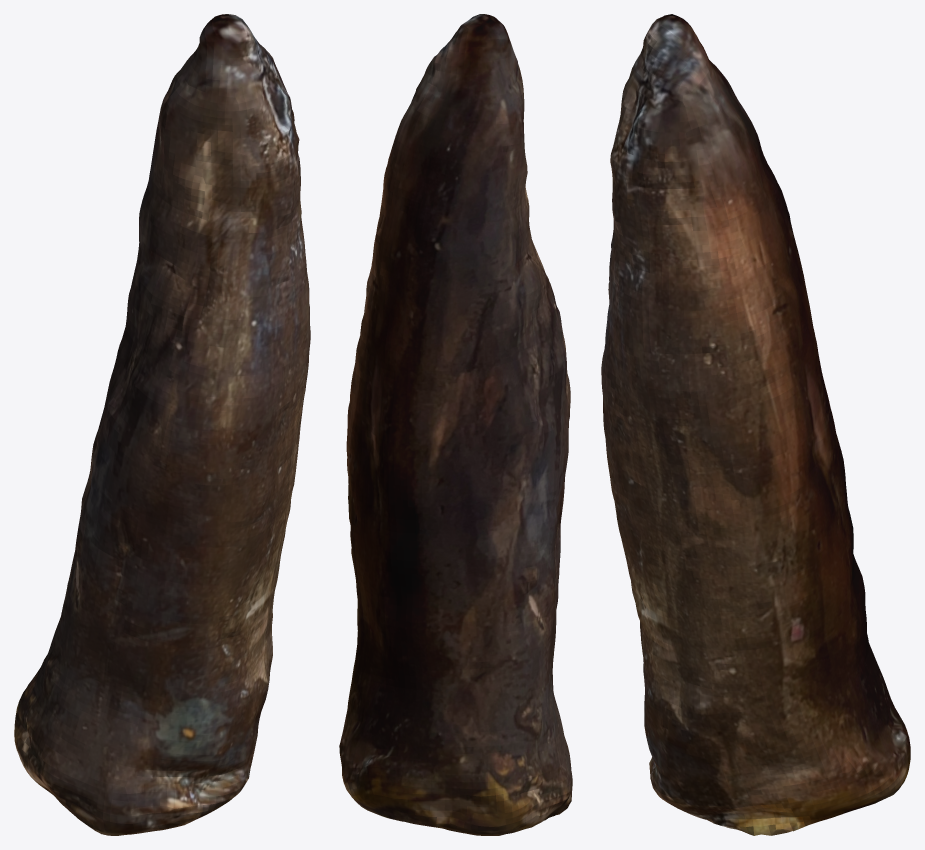
File: Schwert.fbx
3 views of the same model, side by side, from view 1: azimuth 30°, elevation 25°; view 2: azimuth 150°, elevation 25°; view 3: azimuth 270°, elevation 25° (orthographic). The views are drawn at different scales.
Parts seen in each view (by area): view 1: Schwert; view 2: Schwert; view 3: Schwert.
Boxes of the visible parts, left/top/right/bottom form: Schwert: left=14, top=14, right=310, bottom=835; Schwert: left=339, top=14, right=572, bottom=835; Schwert: left=601, top=14, right=910, bottom=835.
Size of the model in its own units: 23.42 by 77.4 by 26.74.
